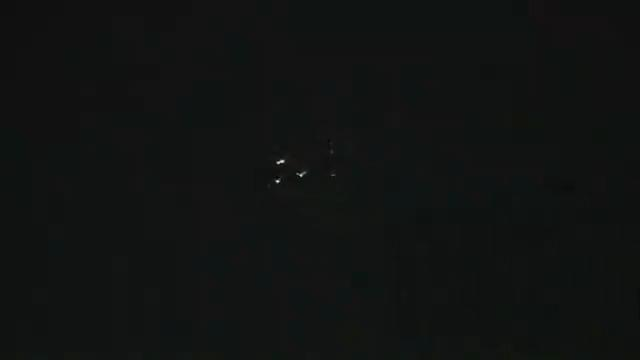Plane: (250, 151, 319, 195)
